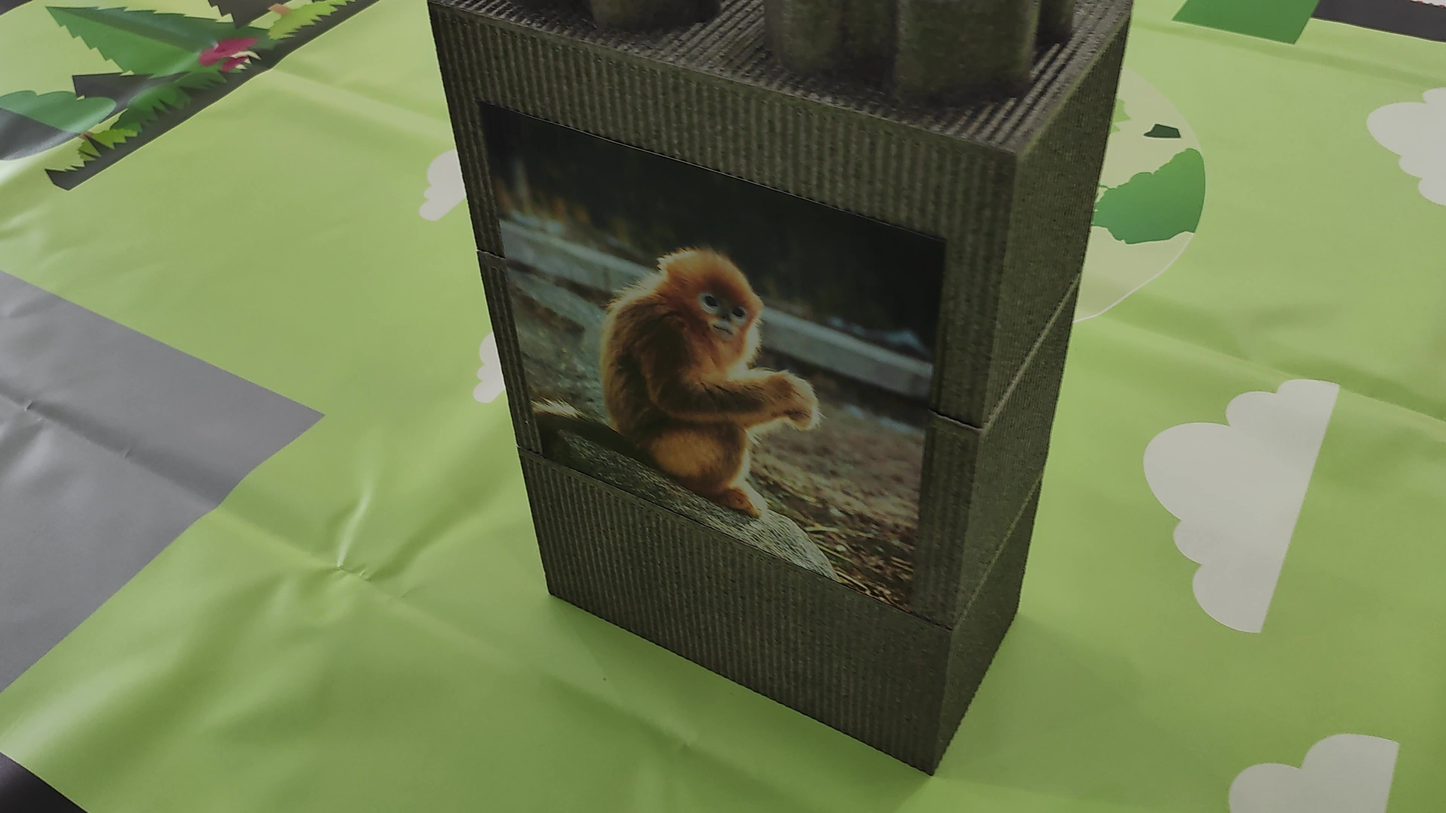monkey: (533, 170, 885, 542)
